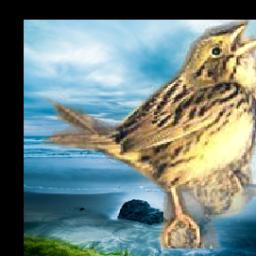Sparrow: (42, 20, 256, 249)
